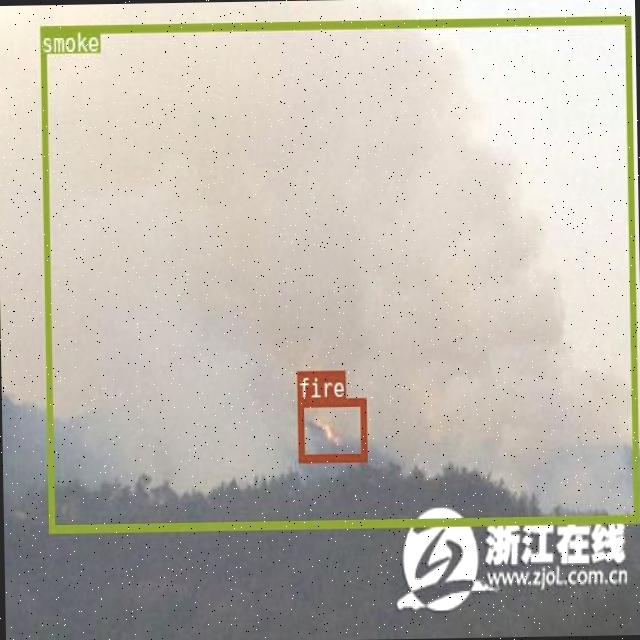fire: (296, 397, 366, 461)
smoke: (39, 15, 638, 530)
